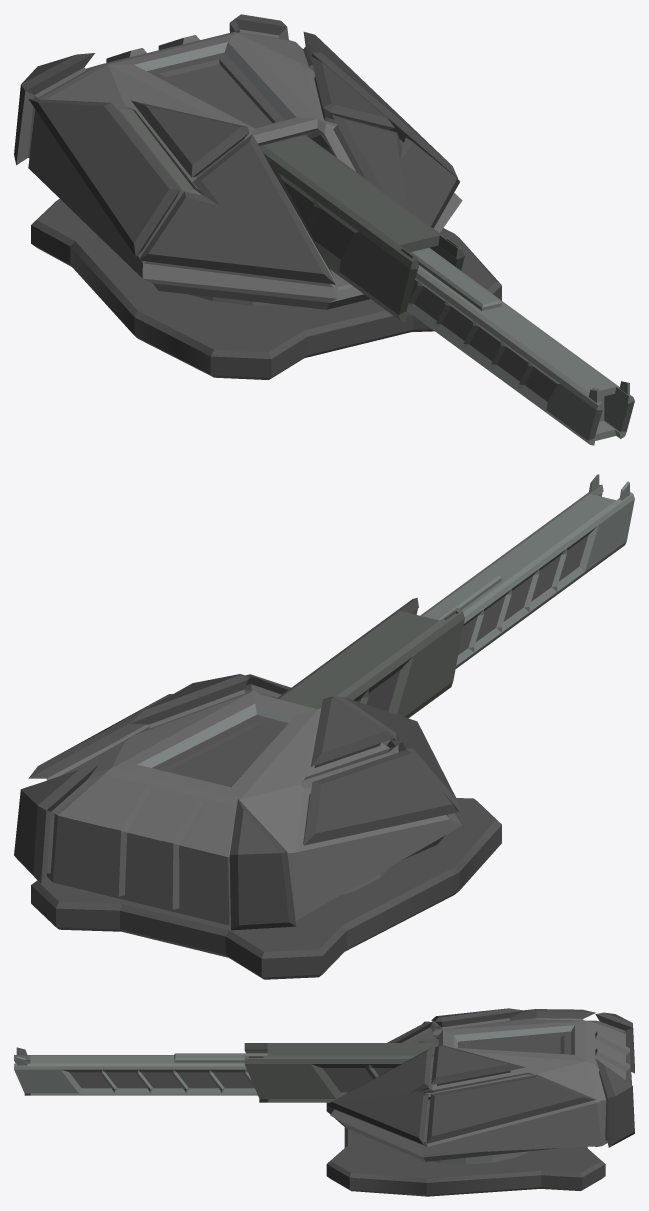
Rendered from model_polyfleet_battleship_railgun4.fbx.
The picture shows the model from 3 angles, top to bottom: view 1: azimuth 30°, elevation 25°; view 2: azimuth 150°, elevation 25°; view 3: azimuth 270°, elevation 25°; orthographic projection. The views are drawn at different scales.
Parts seen in each view (by area): view 1: weapon_rotate, model_polyfleet_battleship_railgun4, weapon_barrels_front, weapon_barrels_back; view 2: weapon_rotate, model_polyfleet_battleship_railgun4, weapon_barrels_front, weapon_barrels_back; view 3: weapon_rotate, model_polyfleet_battleship_railgun4, weapon_barrels_front, weapon_barrels_back.
Part boxes in pixels (left/top/right/bottom): weapon_rotate: left=14, top=14, right=462, bottom=309; model_polyfleet_battleship_railgun4: left=31, top=199, right=501, bottom=379; weapon_barrels_front: left=406, top=247, right=634, bottom=445; weapon_barrels_back: left=259, top=135, right=464, bottom=322; weapon_rotate: left=14, top=674, right=462, bottom=930; model_polyfleet_battleship_railgun4: left=31, top=798, right=501, bottom=979; weapon_barrels_front: left=420, top=474, right=634, bottom=668; weapon_barrels_back: left=276, top=597, right=464, bottom=718; weapon_rotate: left=327, top=1008, right=634, bottom=1164; model_polyfleet_battleship_railgun4: left=326, top=1102, right=605, bottom=1196; weapon_barrels_front: left=14, top=1047, right=267, bottom=1095; weapon_barrels_back: left=244, top=1043, right=438, bottom=1102.
Size of the model in its own units: 254 by 133 by 650.
